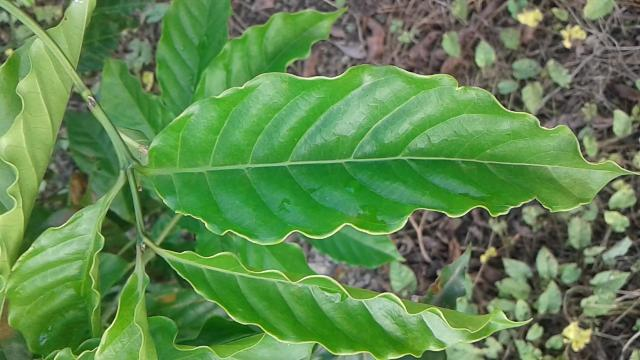healthy: (150, 66, 633, 243)
